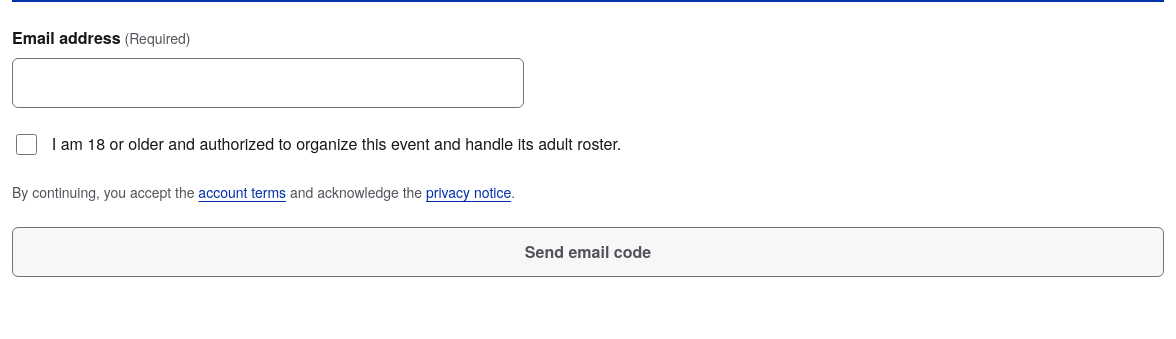
Test case: preserves email and shows a retryable send failure
Type "synthetic@example.test" into the field labelled "Email address (Required)". click: (268, 83)
box: [12, 58, 524, 108]
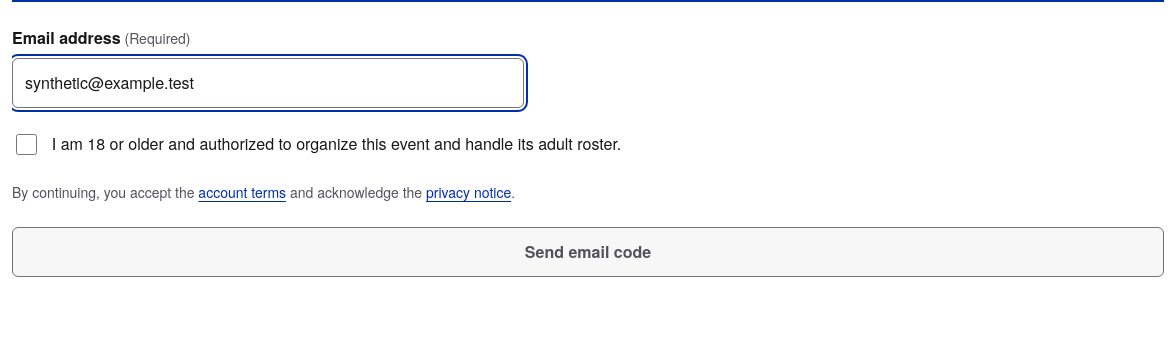
Click the checkbox. click: (26, 145)
box: [16, 134, 37, 155]
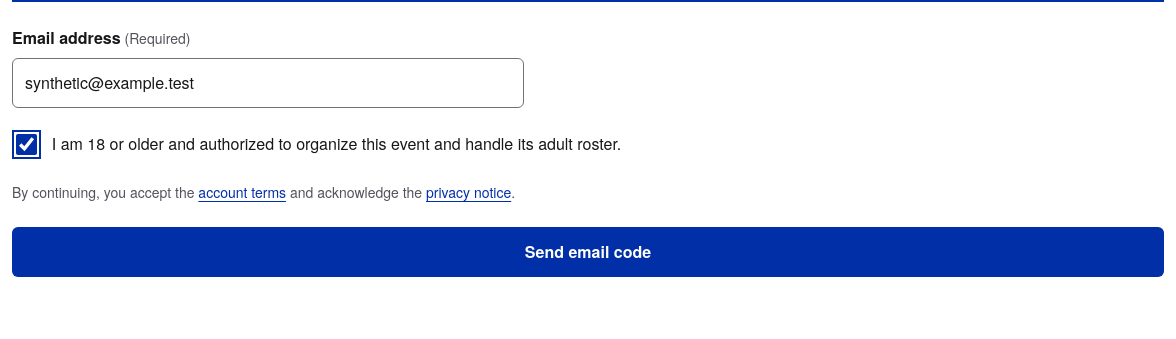
Click the button "Send email code". click: (588, 252)
box: [12, 227, 1164, 277]
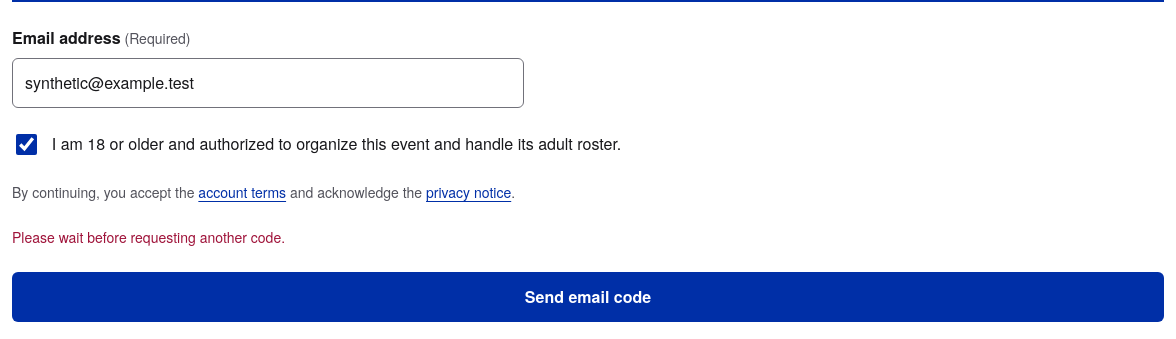
Expected: the message shows "Please wait", [12, 227, 285, 247]
